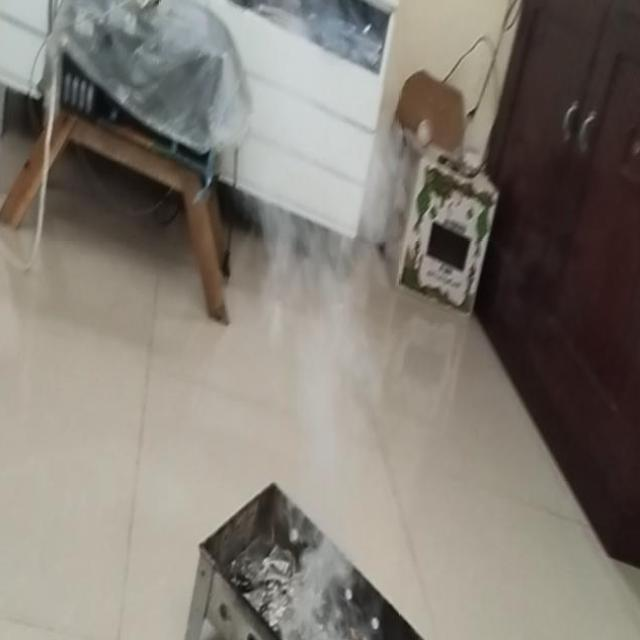fire: (256, 148, 394, 382), (303, 525, 344, 606)
